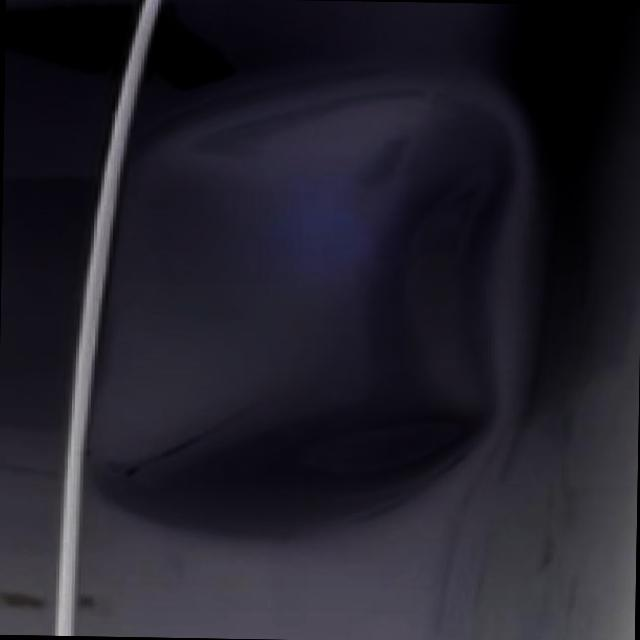dent: (84, 74, 526, 546)
